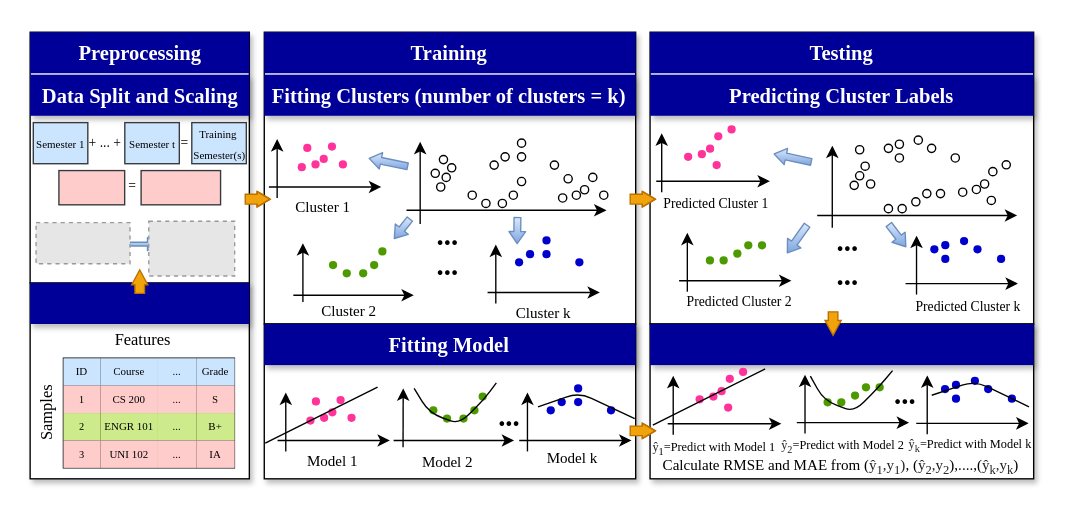
The diagram is 1066 pixels wide and 512 high, and some of its shapes have lost their labels. Grey dashed boxes stand in for pictures. Here are the shapes that lost their labels. From the top down, the centre of each, then its label:
At [91,187]: "Semester t+1".
At [180,187]: "Test Semester".
At [140,305]: "Grade Filtering".
At [842,346]: "Predicting Letter Grade".
